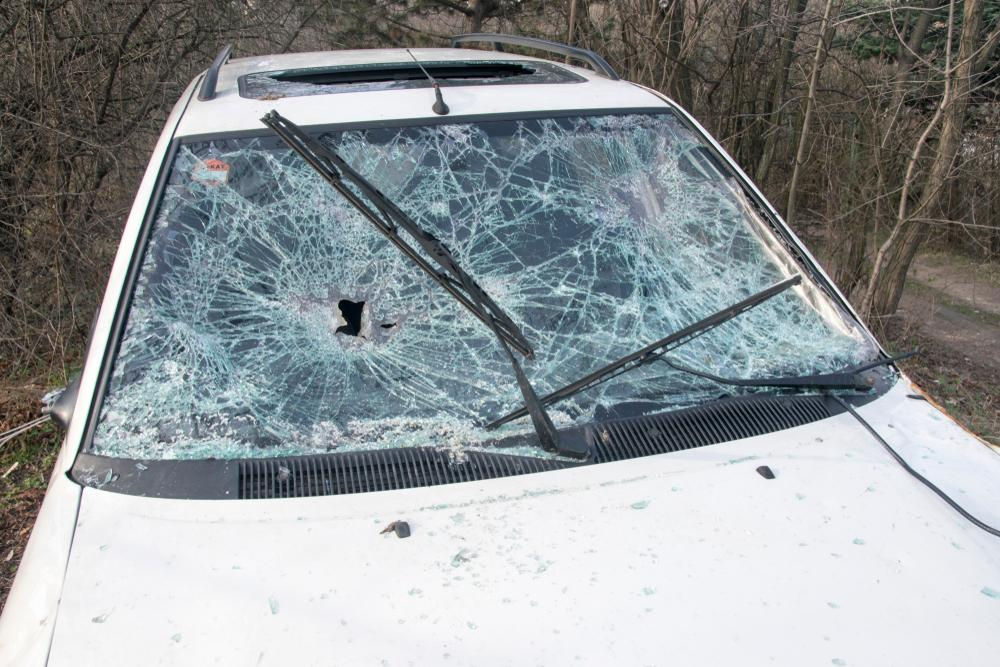glass shatter: (89, 109, 881, 460)
